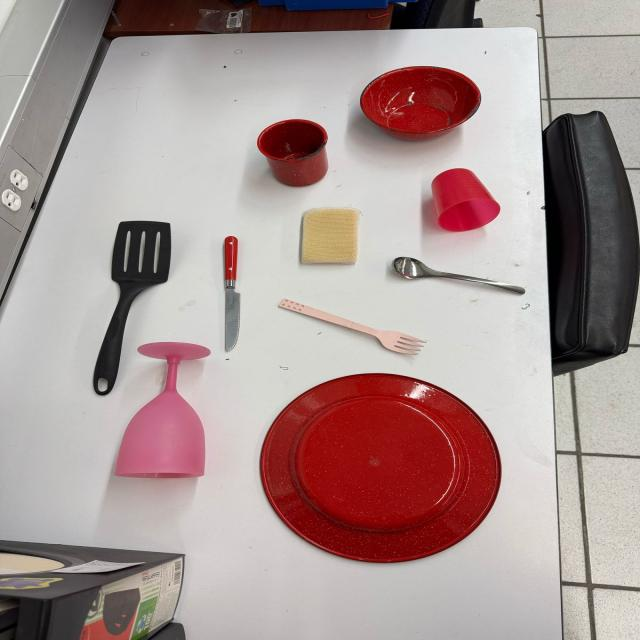cup: (257, 118, 331, 188), (430, 167, 500, 233)
fork: (274, 297, 430, 355)
knife: (222, 235, 241, 350)
plate: (259, 374, 500, 565)
spatula: (90, 219, 176, 399)
sponge: (300, 208, 362, 264)
spoon: (393, 256, 525, 294)
tazon: (360, 66, 480, 140)
wineglass: (108, 335, 214, 482)
